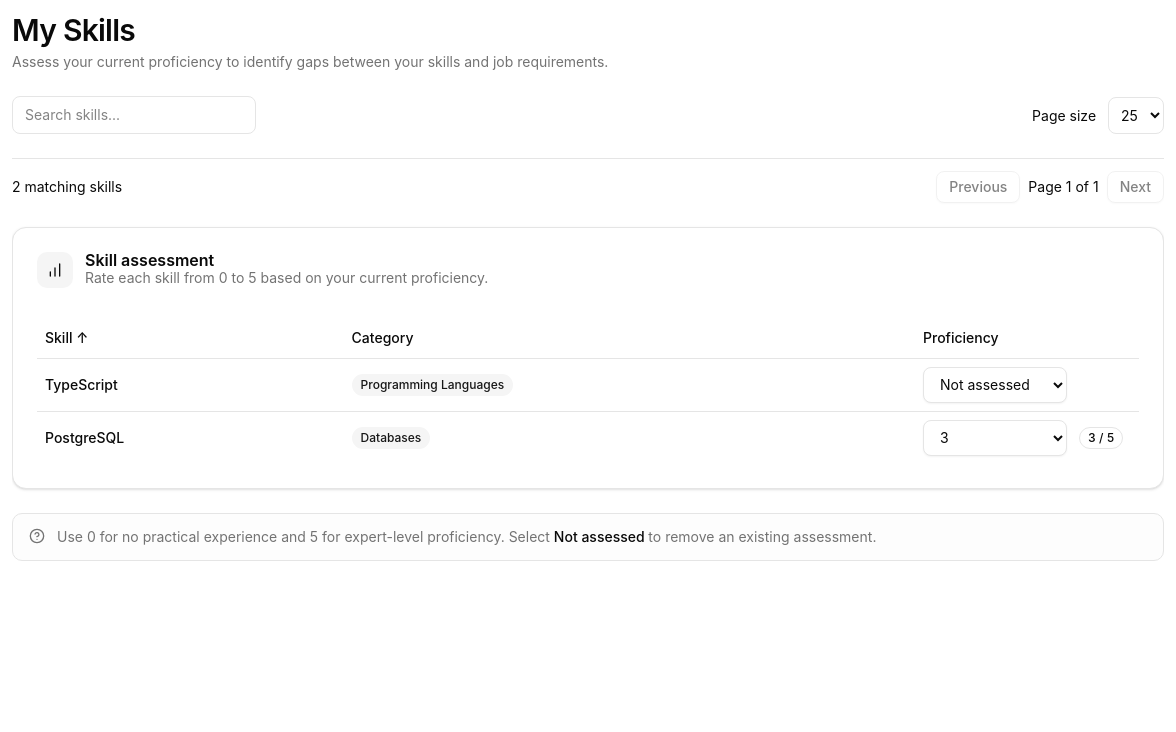
Test: My Skills paginated assessments › saves proficiency by skill ID and refreshes the page
Select "4" in the dropdown in the row of "TypeScript" at (995, 384), box [923,366,1067,402]
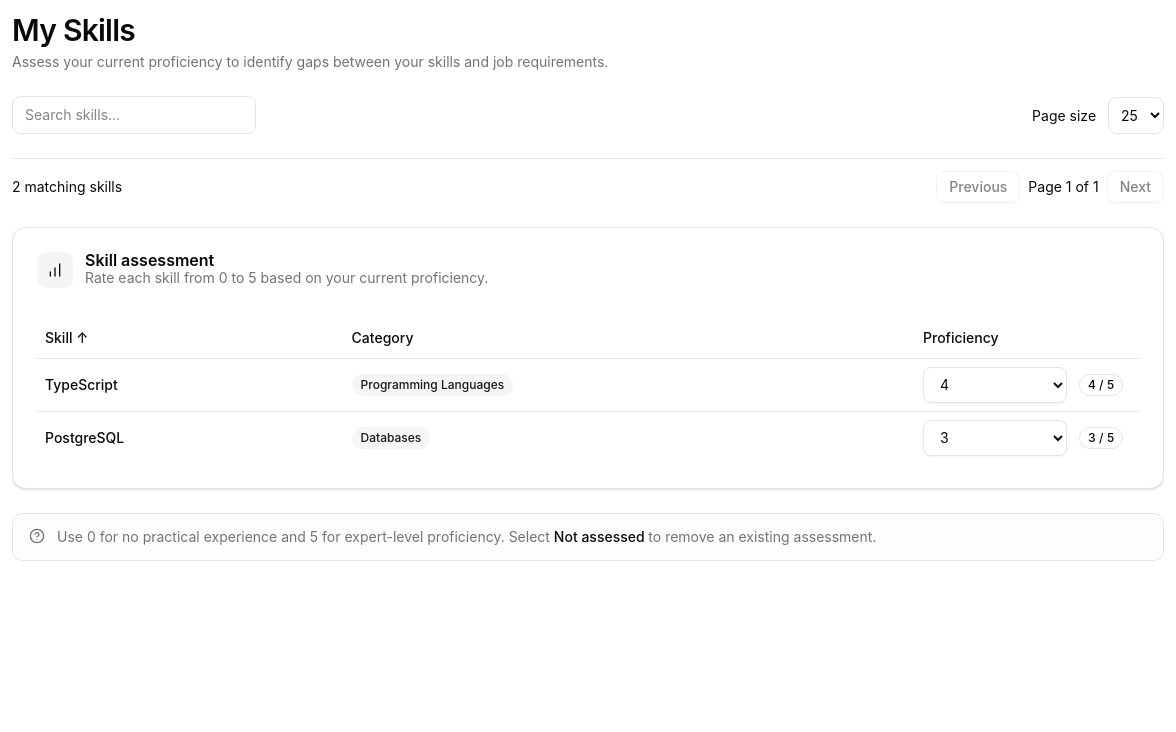
expect the dropdown next to "4 / 5" shows "4": met, box [923,366,1067,402]
